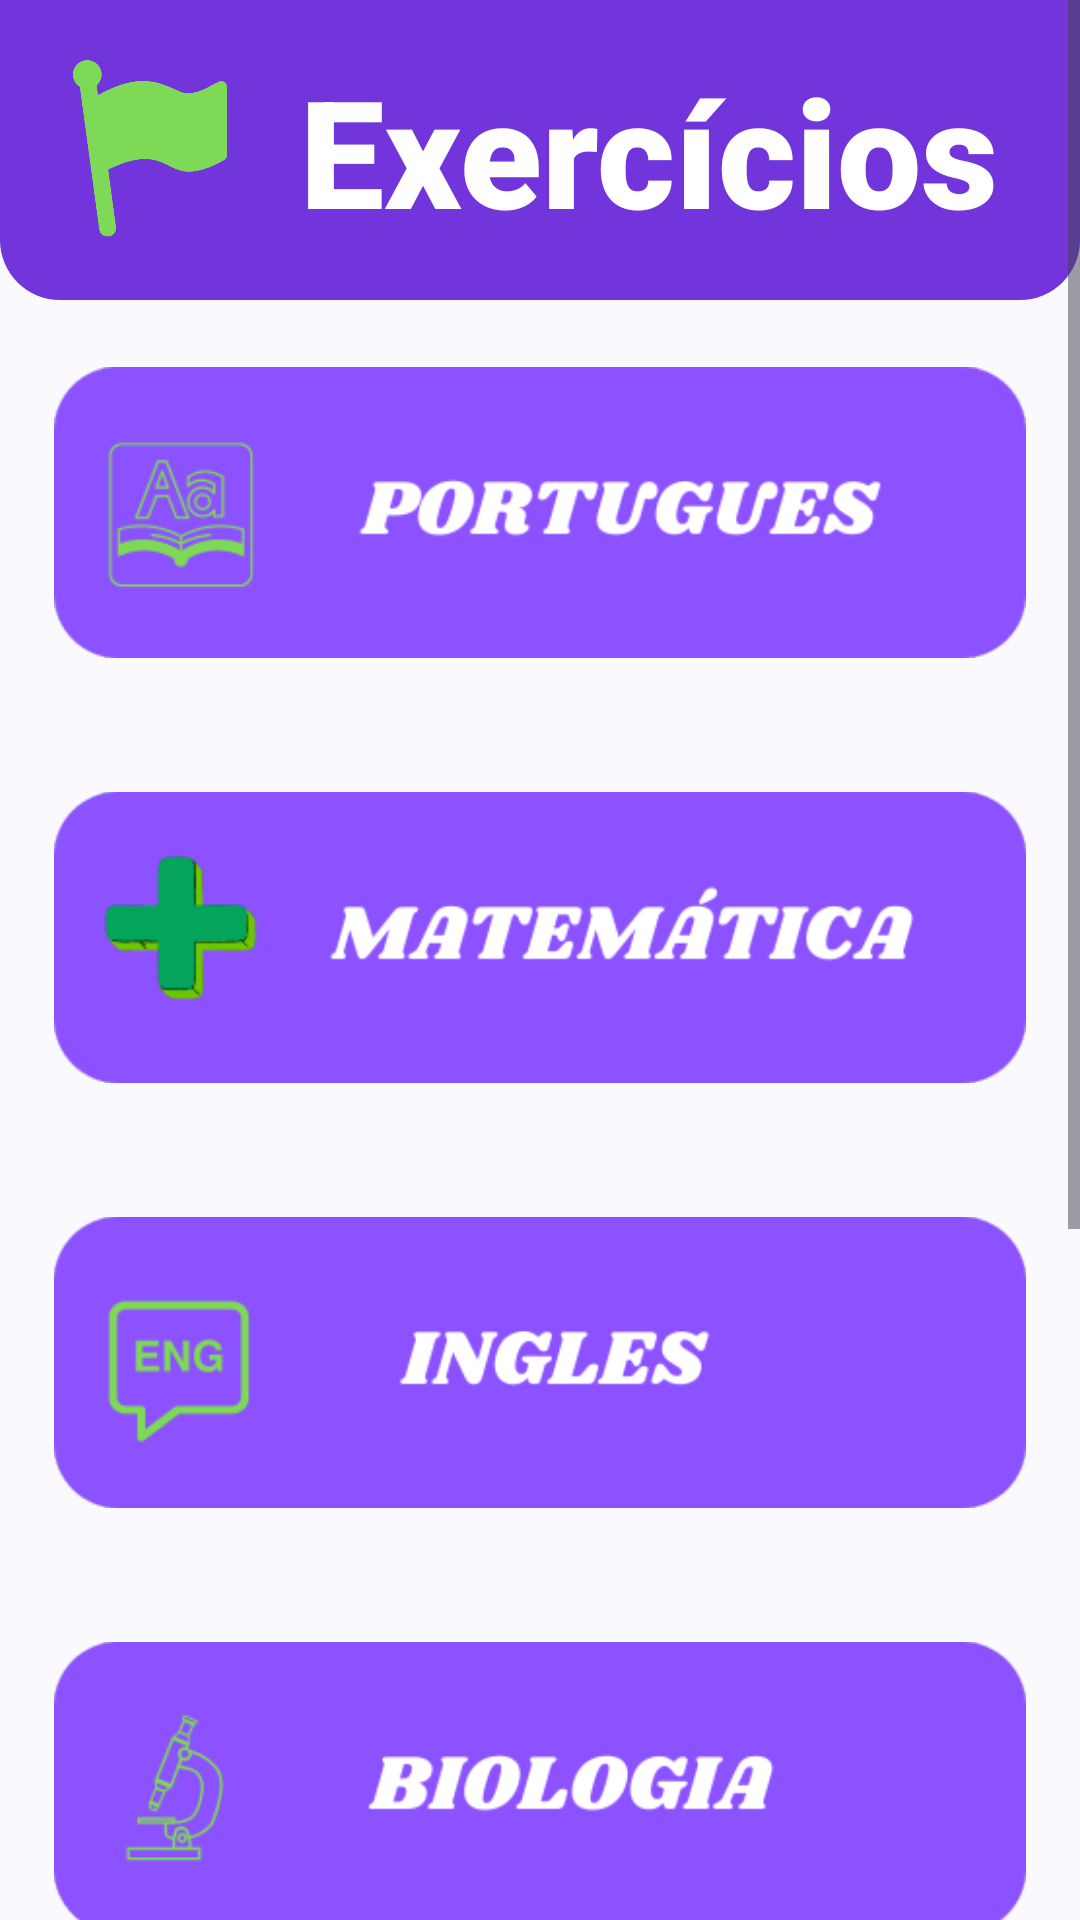

Screen size 1080x1920. Icon name, then its center in pixels as (x=x, y=y):
bandeira: (x=150, y=148)
